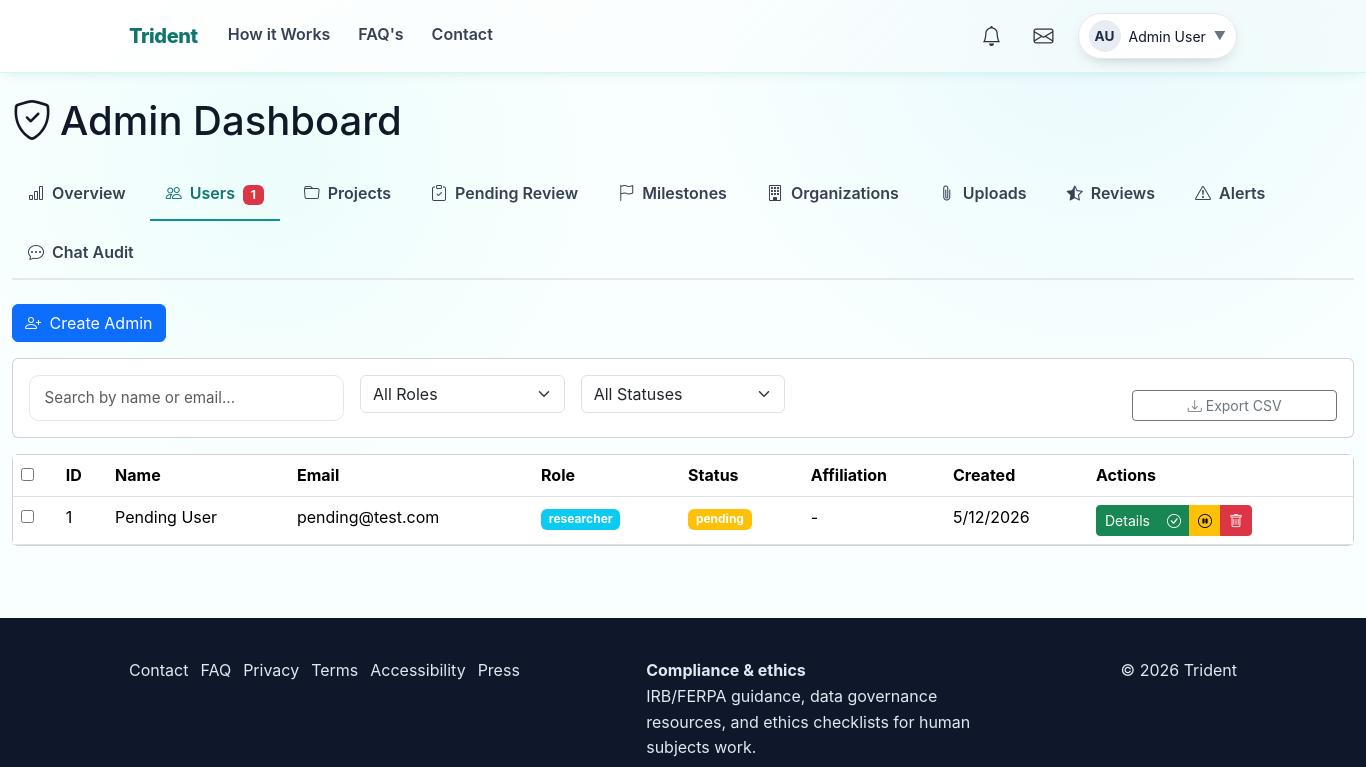
AdminDashboard — UC12 Features › Bulk Actions › shows users bulk toolbar when a row is selected
This screenshot has width=1366, height=767.
Expected: the text "Pending User" is shown, [107,497,289,545]
Click the checkbox named "Select user 1". click: (28, 517)
box: [21,510,34,523]
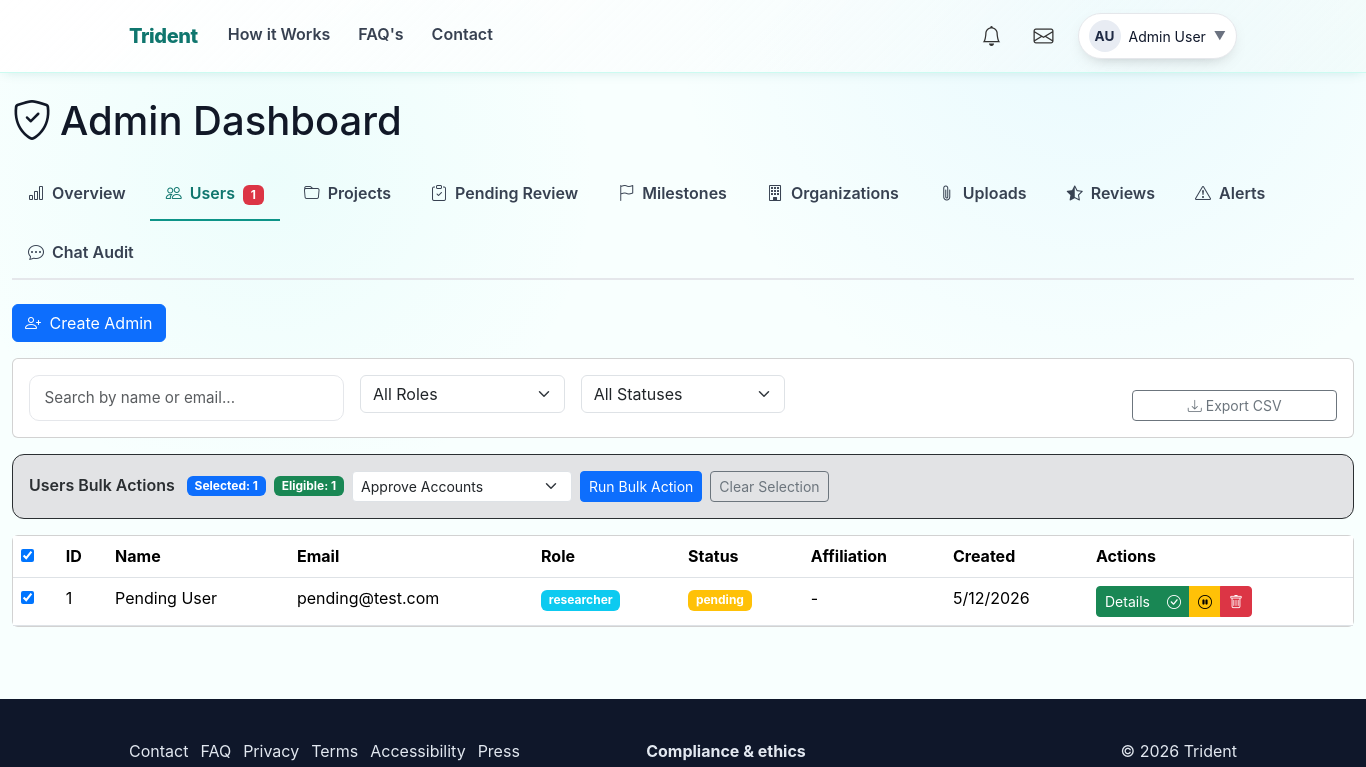
Expected: the text "Users Bulk Actions" is shown, [29,474,175,499]
Expected: the button "Run Bulk Action" is shown, [580,471,702,502]
